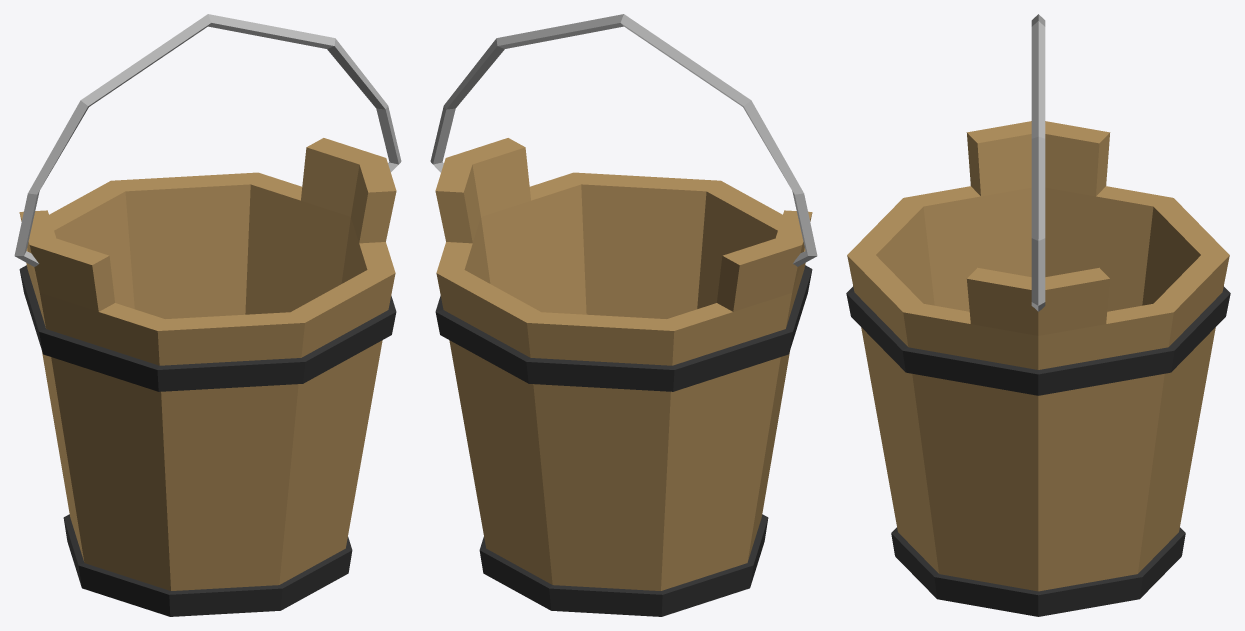
File: Bucket2.fbx
3 renders of one model, left to right at view 1: azimuth 30°, elevation 25°; view 2: azimuth 150°, elevation 25°; view 3: azimuth 270°, elevation 25°, orthographic.
Visible parts, largest first — view 1: Cylinder, Cylinder.001; view 2: Cylinder, Cylinder.001; view 3: Cylinder, Cylinder.001.
Boxes of the visible parts, x1,y1,x2,y2 form: Cylinder: (19, 138, 396, 616); Cylinder.001: (14, 14, 401, 266); Cylinder: (435, 138, 812, 616); Cylinder.001: (430, 14, 817, 266); Cylinder: (846, 121, 1230, 616); Cylinder.001: (1031, 14, 1045, 311).
Size of the model in its own units: 0.741 by 0.9943 by 0.647.
